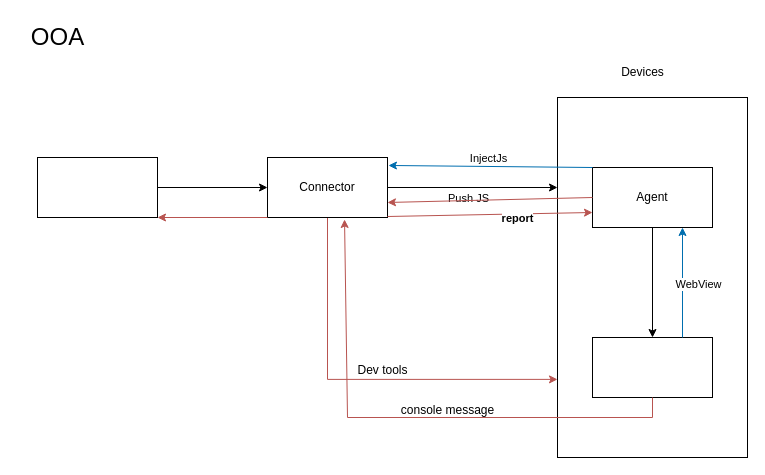
The diagram is 765 pixels wide and 475 high, and some of its shapes have lost their labels. The shapes that lost their labels are listed below. From the top down, each one's box as (x1, y1, x2, y2) in pixels, then its label:
(36, 156, 158, 218): UFTO
(592, 336, 712, 398): AUT WebView
